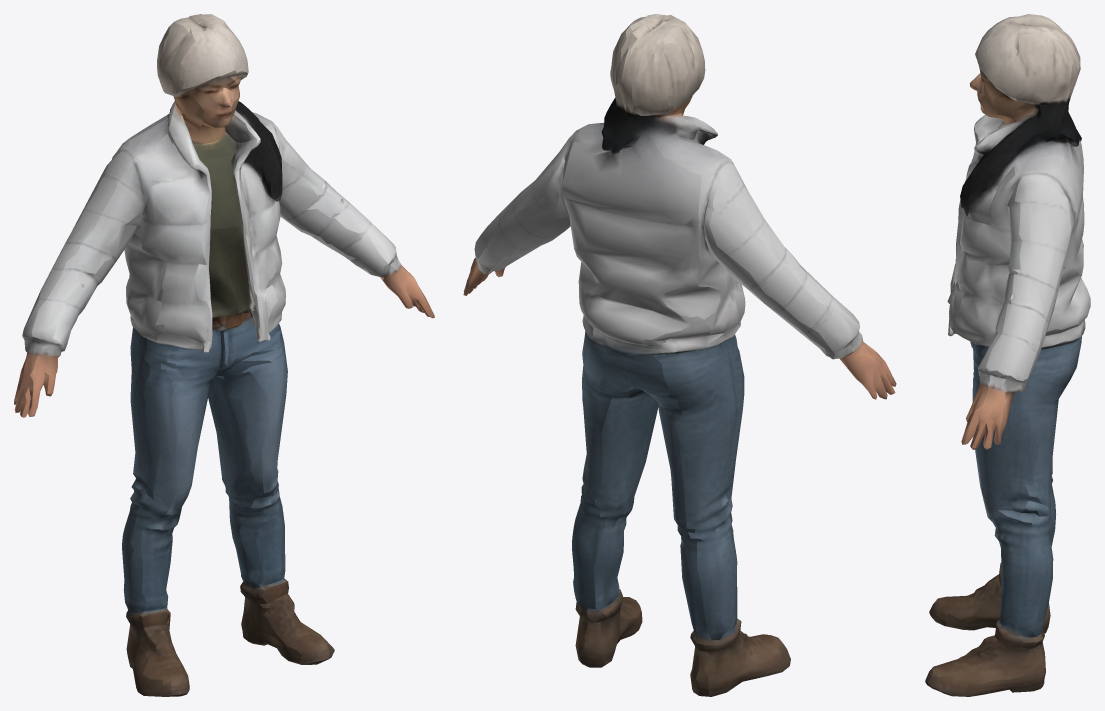
Rendered from girl.glb.
3 renders of one model, left to right at view 1: azimuth 30°, elevation 25°; view 2: azimuth 150°, elevation 25°; view 3: azimuth 270°, elevation 25°, orthographic. The views are drawn at different scales.
Parts seen in each view (by area): view 1: world; view 2: world; view 3: world.
Part boxes in pixels (x1,y1,x2,y2): world: (14, 14, 434, 696); world: (463, 14, 896, 696); world: (925, 14, 1090, 696).
Bounding box in the file's own units: 1.2 × 1.75 × 0.4137.
1 material, 1 textured.
